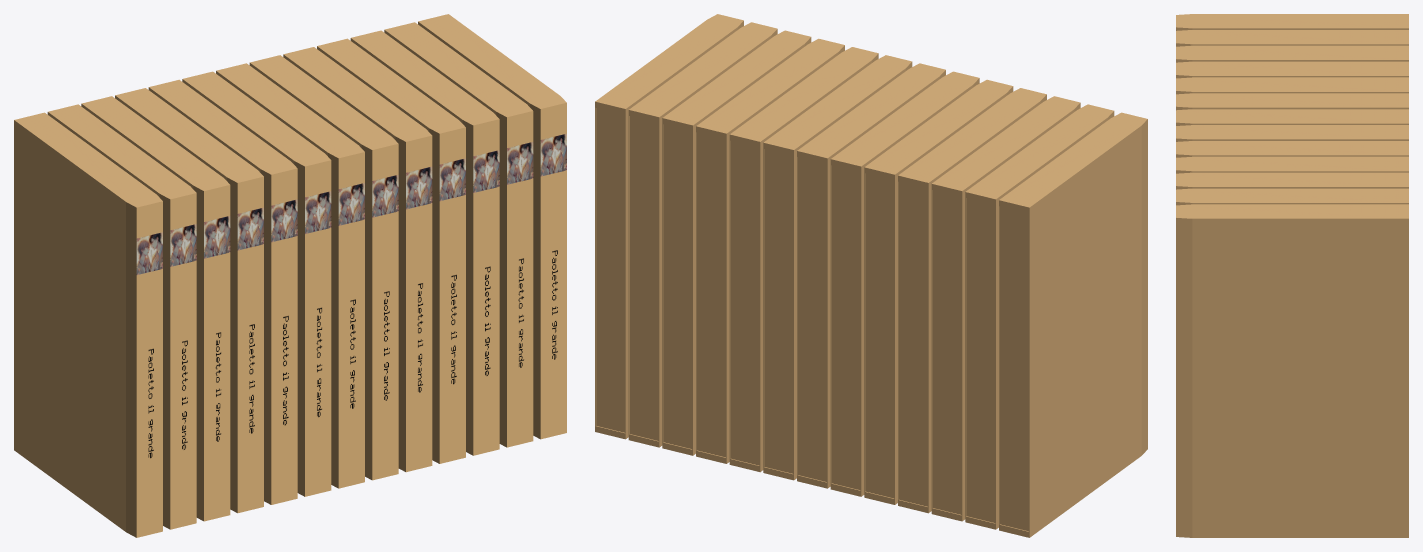
File: mangaCollection.fbx
The picture shows the model from 3 angles, left to right: view 1: azimuth 30°, elevation 25°; view 2: azimuth 150°, elevation 25°; view 3: azimuth 270°, elevation 25°; orthographic projection. The views are drawn at different scales.
Parts seen in each view (by area): view 1: Cube; view 2: Cube; view 3: Cube.
Boxes of the visible parts, x1,y1,x2,y2 form: Cube: (14, 14, 566, 537); Cube: (595, 14, 1147, 537); Cube: (1176, 14, 1408, 537).
Size of the model in its own units: 275 by 200 by 132.
Materials: 3 (2 with a texture image).
